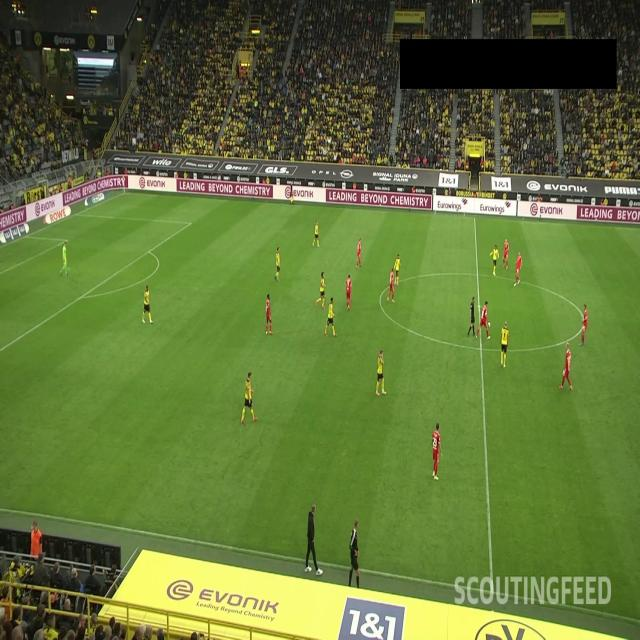Ball: (488, 322, 491, 329)
GoalKeeper: (59, 240, 69, 278)
Referee: (467, 296, 477, 338), (288, 184, 294, 206)
TEAM 1: (430, 423, 444, 483), (559, 342, 574, 393), (475, 300, 491, 343), (265, 293, 275, 335), (579, 304, 588, 348), (344, 274, 354, 312), (386, 268, 396, 306), (512, 252, 522, 286), (502, 238, 510, 272), (356, 237, 364, 270)
TEAM 2: (241, 372, 258, 424), (323, 297, 338, 340), (376, 348, 388, 398), (499, 321, 510, 370), (141, 285, 154, 325), (316, 272, 326, 310), (393, 254, 402, 286), (312, 219, 321, 248), (275, 245, 282, 281), (491, 246, 498, 278)
